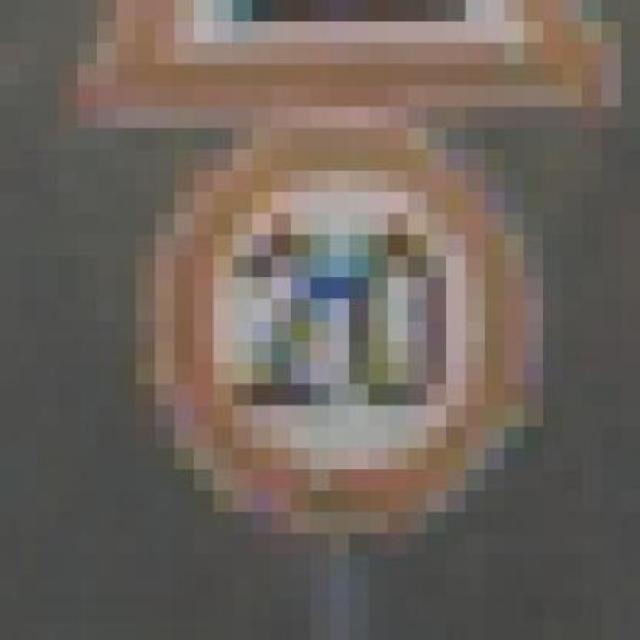forb_speed_over_20: (160, 122, 543, 524)
